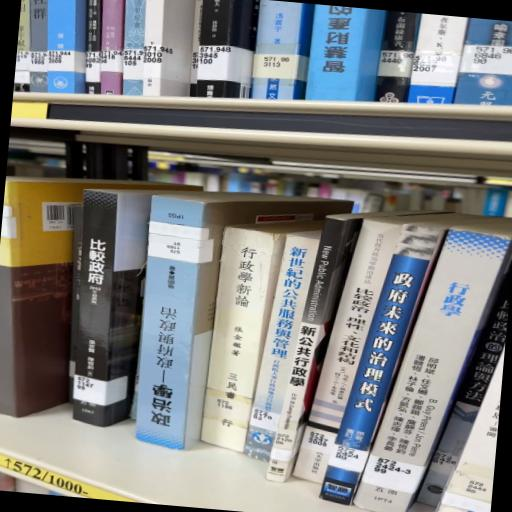reverse: (137, 193, 301, 451)
